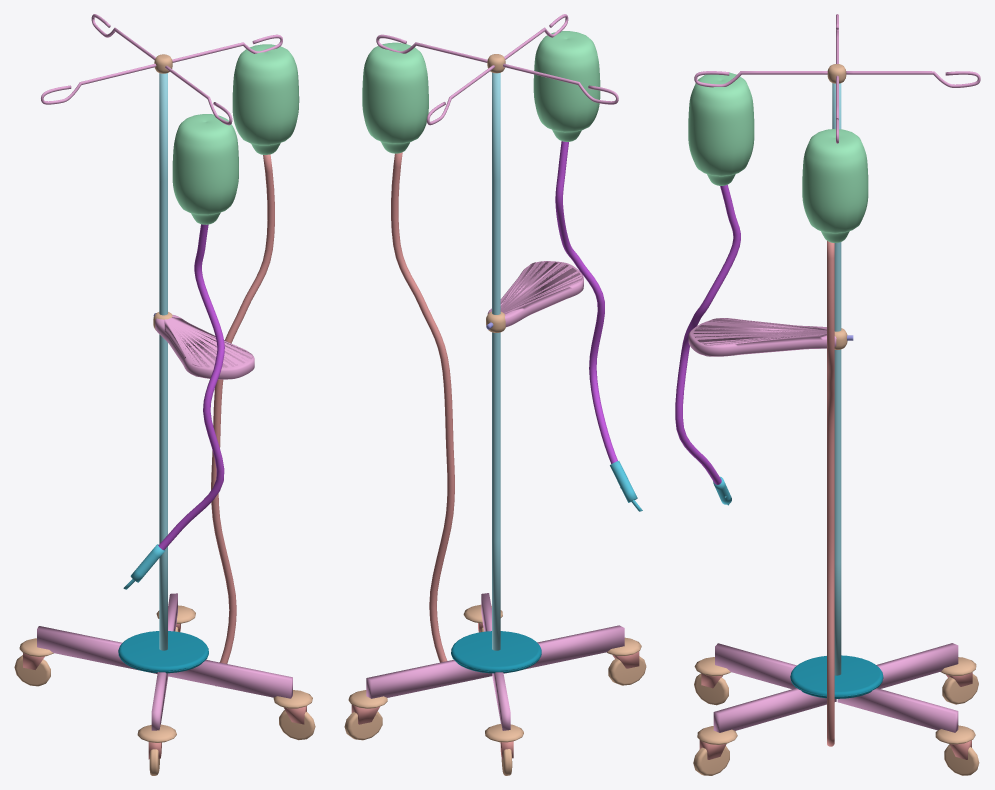
Rendered from IVDrip.obj.
3 views of the same model, side by side, from view 1: azimuth 30°, elevation 25°; view 2: azimuth 150°, elevation 25°; view 3: azimuth 270°, elevation 25° (orthographic). The views are drawn at different scales.
Parts seen in each view (by area): view 1: Line01, Line02, Cylinder01, Loft05, Line03, ChamferCyl04, Loft06, Box17, Box15, ChamferCyl19, ChamferCyl17, Box12 (+3 smaller); view 2: Line02, Line01, Cylinder01, Loft05, Line03, ChamferCyl04, Loft06, Box13, Box12, ChamferCyl13, ChamferCyl12, Box15 (+3 smaller); view 3: Line02, Line01, Line03, Loft05, Cylinder01, ChamferCyl04, Loft06, Box13, Box17, Box12, Box15, ChamferCyl17 (+7 smaller).
Boxes of the visible parts, bbox=[...] form: Line01: bbox=[172, 114, 238, 224]; Line02: bbox=[232, 44, 299, 154]; Cylinder01: bbox=[159, 73, 167, 650]; Loft05: bbox=[211, 154, 274, 663]; Line03: bbox=[155, 314, 254, 379]; ChamferCyl04: bbox=[118, 631, 208, 673]; Loft06: bbox=[158, 224, 224, 550]; Box17: bbox=[168, 659, 292, 698]; Box15: bbox=[37, 626, 157, 673]; ChamferCyl19: bbox=[279, 710, 315, 740]; ChamferCyl17: bbox=[14, 655, 50, 686]; Box12: bbox=[151, 672, 168, 730]; Line02: bbox=[362, 42, 428, 153]; Line01: bbox=[533, 31, 600, 141]; Cylinder01: bbox=[492, 72, 500, 650]; Loft05: bbox=[391, 152, 454, 662]; Line03: bbox=[487, 261, 583, 327]; ChamferCyl04: bbox=[451, 631, 541, 673]; Loft06: bbox=[555, 141, 617, 463]; Box13: bbox=[366, 660, 492, 698]; Box12: bbox=[504, 625, 624, 673]; ChamferCyl13: bbox=[608, 656, 646, 685]; ChamferCyl12: bbox=[344, 711, 382, 740]; Box15: bbox=[492, 672, 510, 730]; Line02: bbox=[802, 129, 868, 242]; Line01: bbox=[688, 72, 754, 185]; Line03: bbox=[688, 318, 836, 356]; Loft05: bbox=[827, 241, 834, 746]; Cylinder01: bbox=[832, 83, 841, 675]; ChamferCyl04: bbox=[790, 655, 883, 698]; Loft06: bbox=[675, 185, 740, 484]; Box13: bbox=[837, 688, 958, 732]; Box17: bbox=[713, 688, 836, 732]; Box12: bbox=[715, 643, 796, 689]; Box15: bbox=[876, 643, 958, 688]; ChamferCyl17: bbox=[942, 674, 978, 704].
Size of the model in its own units: 24.55 by 60.72 by 25.01.
